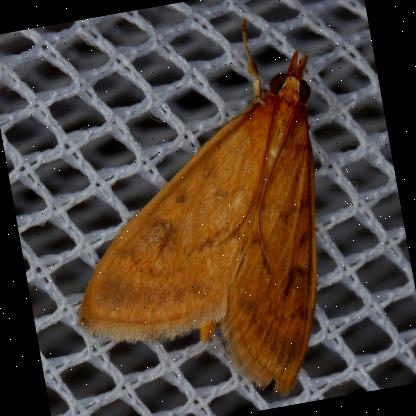Asian Corn Borer Moth: (26, 4, 372, 416)
